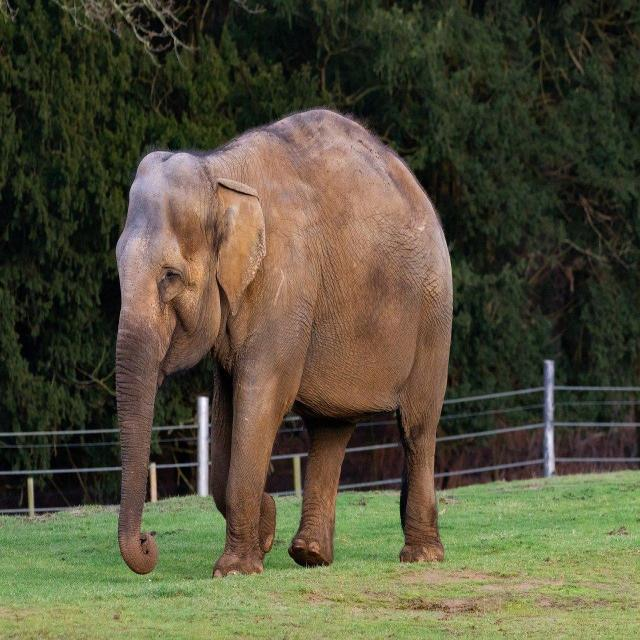Elephant: (113, 108, 452, 570)
